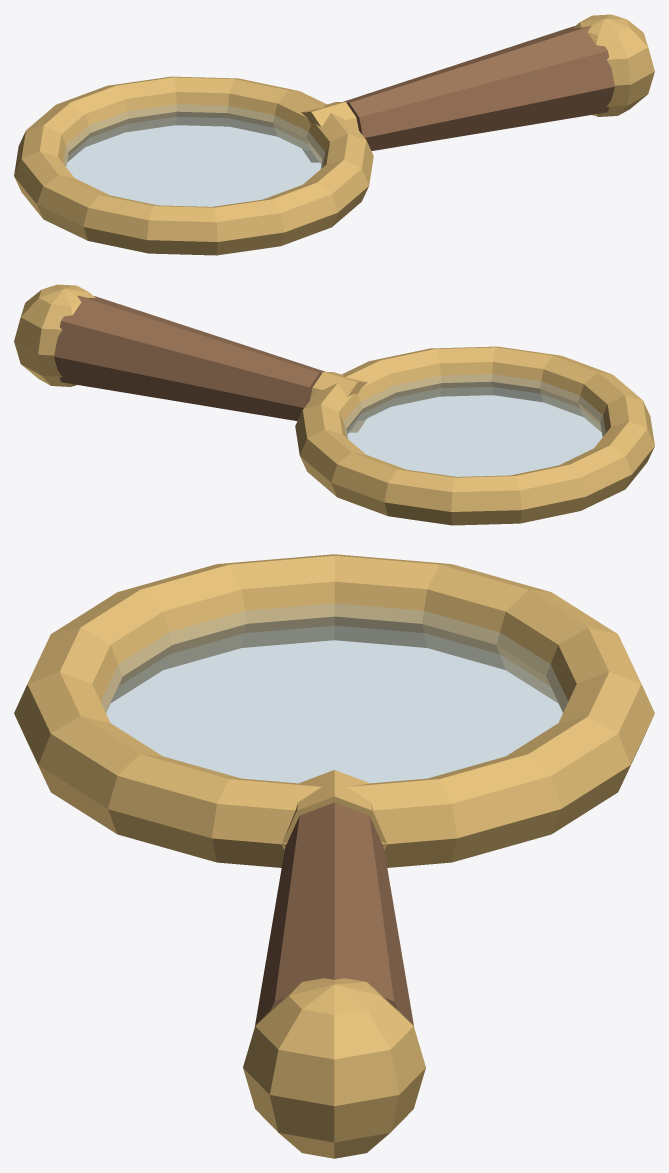
The model's file is magnifier.glb.
3 views of the same model, one above another, from view 1: azimuth 30°, elevation 25°; view 2: azimuth 150°, elevation 25°; view 3: azimuth 270°, elevation 25° (orthographic). The views are drawn at different scales.
Visible parts, largest first — view 1: Frame, Lens, Handle, Pommel, Ferrule; view 2: Frame, Lens, Handle, Pommel, Ferrule; view 3: Frame, Lens, Pommel, Handle, Ferrule.
Boxes of the visible parts, box(x1,y1,x2,y2) form: Frame: box(14, 76, 373, 255); Lens: box(63, 104, 324, 206); Handle: box(343, 25, 614, 150); Pommel: box(573, 14, 654, 116); Ferrule: box(301, 102, 358, 162); Frame: box(295, 346, 654, 525); Lens: box(344, 374, 605, 476); Handle: box(54, 295, 325, 420); Pommel: box(14, 284, 95, 386); Ferrule: box(310, 372, 367, 432); Frame: box(14, 554, 654, 867); Lens: box(101, 603, 567, 783); Pommel: box(243, 978, 425, 1158); Handle: box(255, 802, 413, 1025); Ferrule: box(282, 770, 386, 849).
Bounding box in the file's own units: 0.355 × 0.052 × 0.182.
